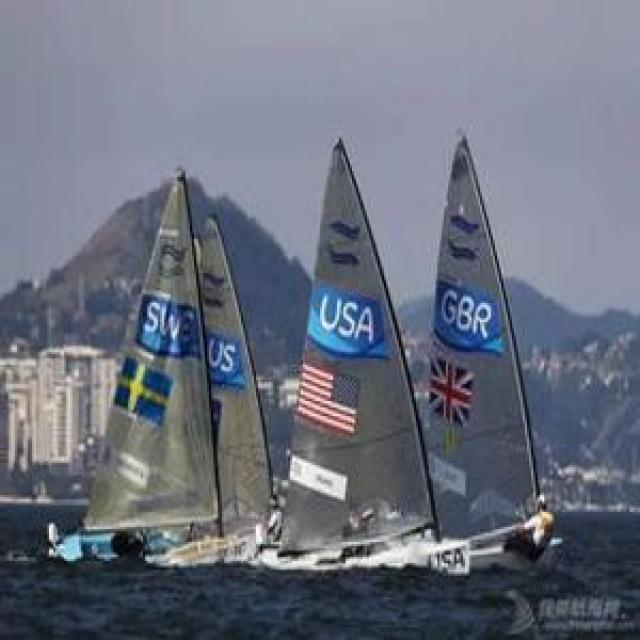sailboat: (271, 120, 448, 572), (396, 134, 577, 554), (76, 163, 229, 552), (179, 200, 276, 582)
